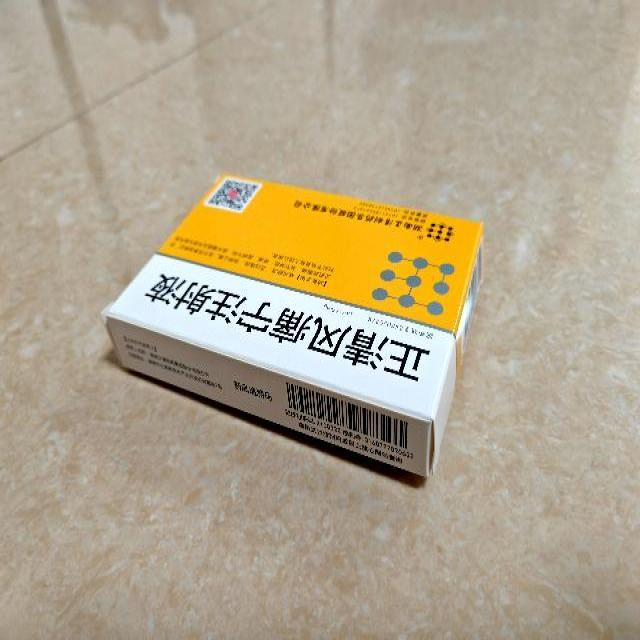box: (104, 172, 483, 476)
